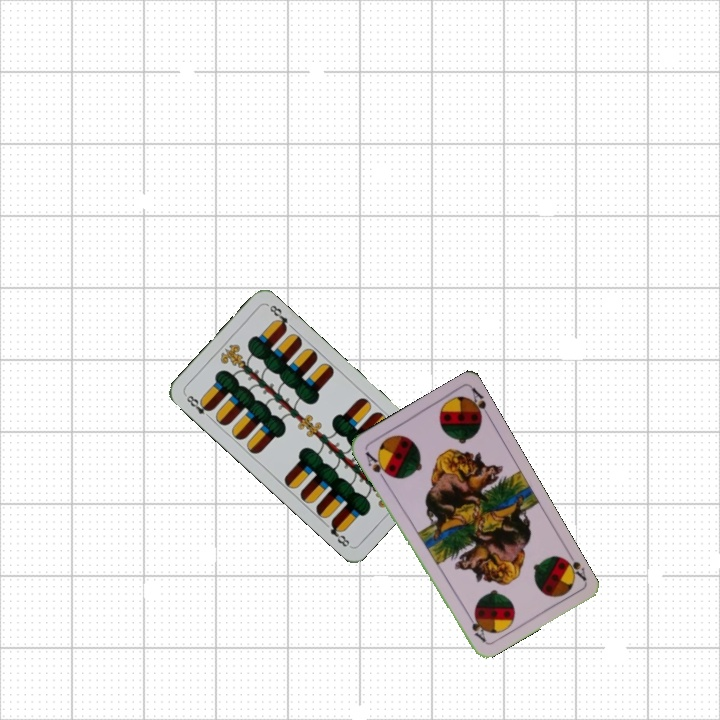E8: (181, 390, 215, 422)
SA: (556, 547, 589, 584), (361, 447, 392, 483)
